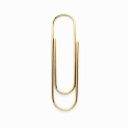Metal: (43, 10, 88, 115)
